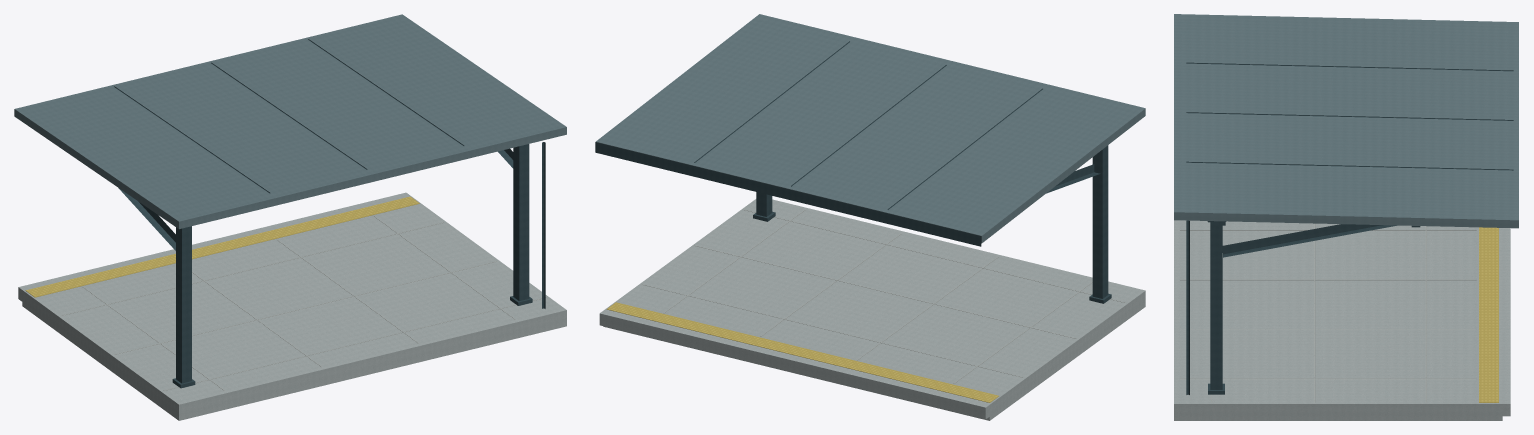
The picture shows the model from 3 angles, left to right: view 1: azimuth 30°, elevation 25°; view 2: azimuth 150°, elevation 25°; view 3: azimuth 270°, elevation 25°; orthographic projection. The views are drawn at different scales.
Visible parts, largest first — view 1: VIS_Roof_Sheet, VIS_Floor_Concrete, VIS_Structural_Columns_Beams, VIS_Boarding_Tactile, VIS_Paving_Deck, VIS_Curb_Edge, VIS_Roof_Standing_Seams; view 2: VIS_Roof_Sheet, VIS_Floor_Concrete, VIS_Curb_Edge, VIS_Roof_Fascia, VIS_Boarding_Tactile, VIS_Structural_Columns_Beams, VIS_Paving_Deck, VIS_Roof_Standing_Seams; view 3: VIS_Roof_Sheet, VIS_Floor_Concrete, VIS_Structural_Columns_Beams, VIS_Boarding_Tactile, VIS_Paving_Deck, VIS_Curb_Edge, VIS_Roof_Standing_Seams.
Part boxes in pixels (x1,y1,x2,y2): VIS_Roof_Sheet: [14, 14, 566, 229]; VIS_Floor_Concrete: [22, 195, 566, 420]; VIS_Structural_Columns_Beams: [118, 142, 545, 388]; VIS_Boarding_Tactile: [25, 196, 419, 297]; VIS_Paving_Deck: [61, 216, 546, 390]; VIS_Curb_Edge: [18, 192, 409, 301]; VIS_Roof_Standing_Seams: [114, 39, 464, 193]; VIS_Roof_Sheet: [596, 14, 1145, 243]; VIS_Floor_Concrete: [603, 199, 1145, 420]; VIS_Curb_Edge: [599, 310, 989, 419]; VIS_Roof_Fascia: [595, 142, 981, 246]; VIS_Boarding_Tactile: [606, 302, 998, 402]; VIS_Structural_Columns_Beams: [753, 145, 1111, 303]; VIS_Paving_Deck: [642, 209, 1125, 383]; VIS_Roof_Standing_Seams: [694, 41, 1042, 209]; VIS_Roof_Sheet: [1174, 14, 1518, 228]; VIS_Floor_Concrete: [1174, 220, 1502, 420]; VIS_Structural_Columns_Beams: [1186, 220, 1420, 394]; VIS_Boarding_Tactile: [1479, 227, 1498, 402]; VIS_Paving_Deck: [1180, 223, 1476, 402]; VIS_Curb_Edge: [1502, 228, 1510, 416]; VIS_Roof_Standing_Seams: [1186, 62, 1513, 170].
Bounding box in the file's own units: 8 × 3.94 × 5.9.
Materials: 6 (6 with a texture image).
